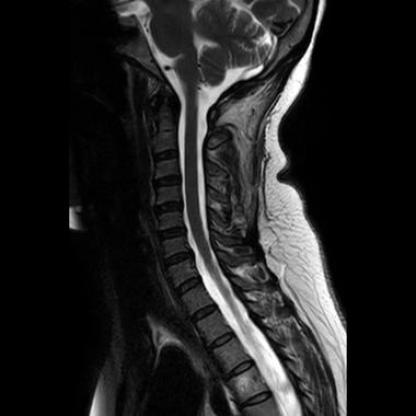Disc Bulgerotation: (156, 225, 187, 243), (154, 174, 183, 191), (153, 202, 185, 217), (162, 252, 194, 267)
